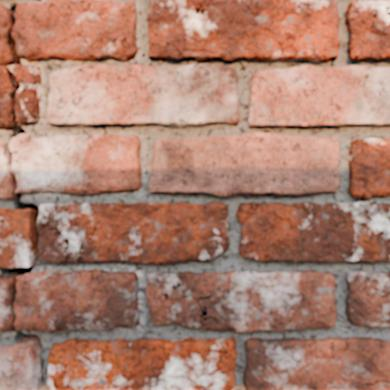brick: (47, 64, 239, 127), (148, 0, 339, 62), (149, 133, 338, 195), (36, 201, 228, 262), (146, 271, 335, 331), (48, 338, 236, 389), (237, 202, 389, 262), (249, 66, 389, 126), (244, 337, 389, 389), (345, 1, 389, 59), (348, 139, 389, 198), (346, 271, 389, 326), (0, 208, 35, 267), (0, 344, 40, 389)
broken_brick: (10, 132, 142, 194), (15, 268, 140, 332), (13, 0, 138, 62), (0, 3, 15, 130), (16, 64, 42, 125), (0, 144, 14, 200), (0, 274, 9, 331)
crack: (0, 2, 44, 387), (48, 218, 69, 262), (75, 225, 97, 261), (212, 345, 235, 354), (377, 222, 389, 239), (385, 5, 389, 15), (32, 0, 42, 2)
